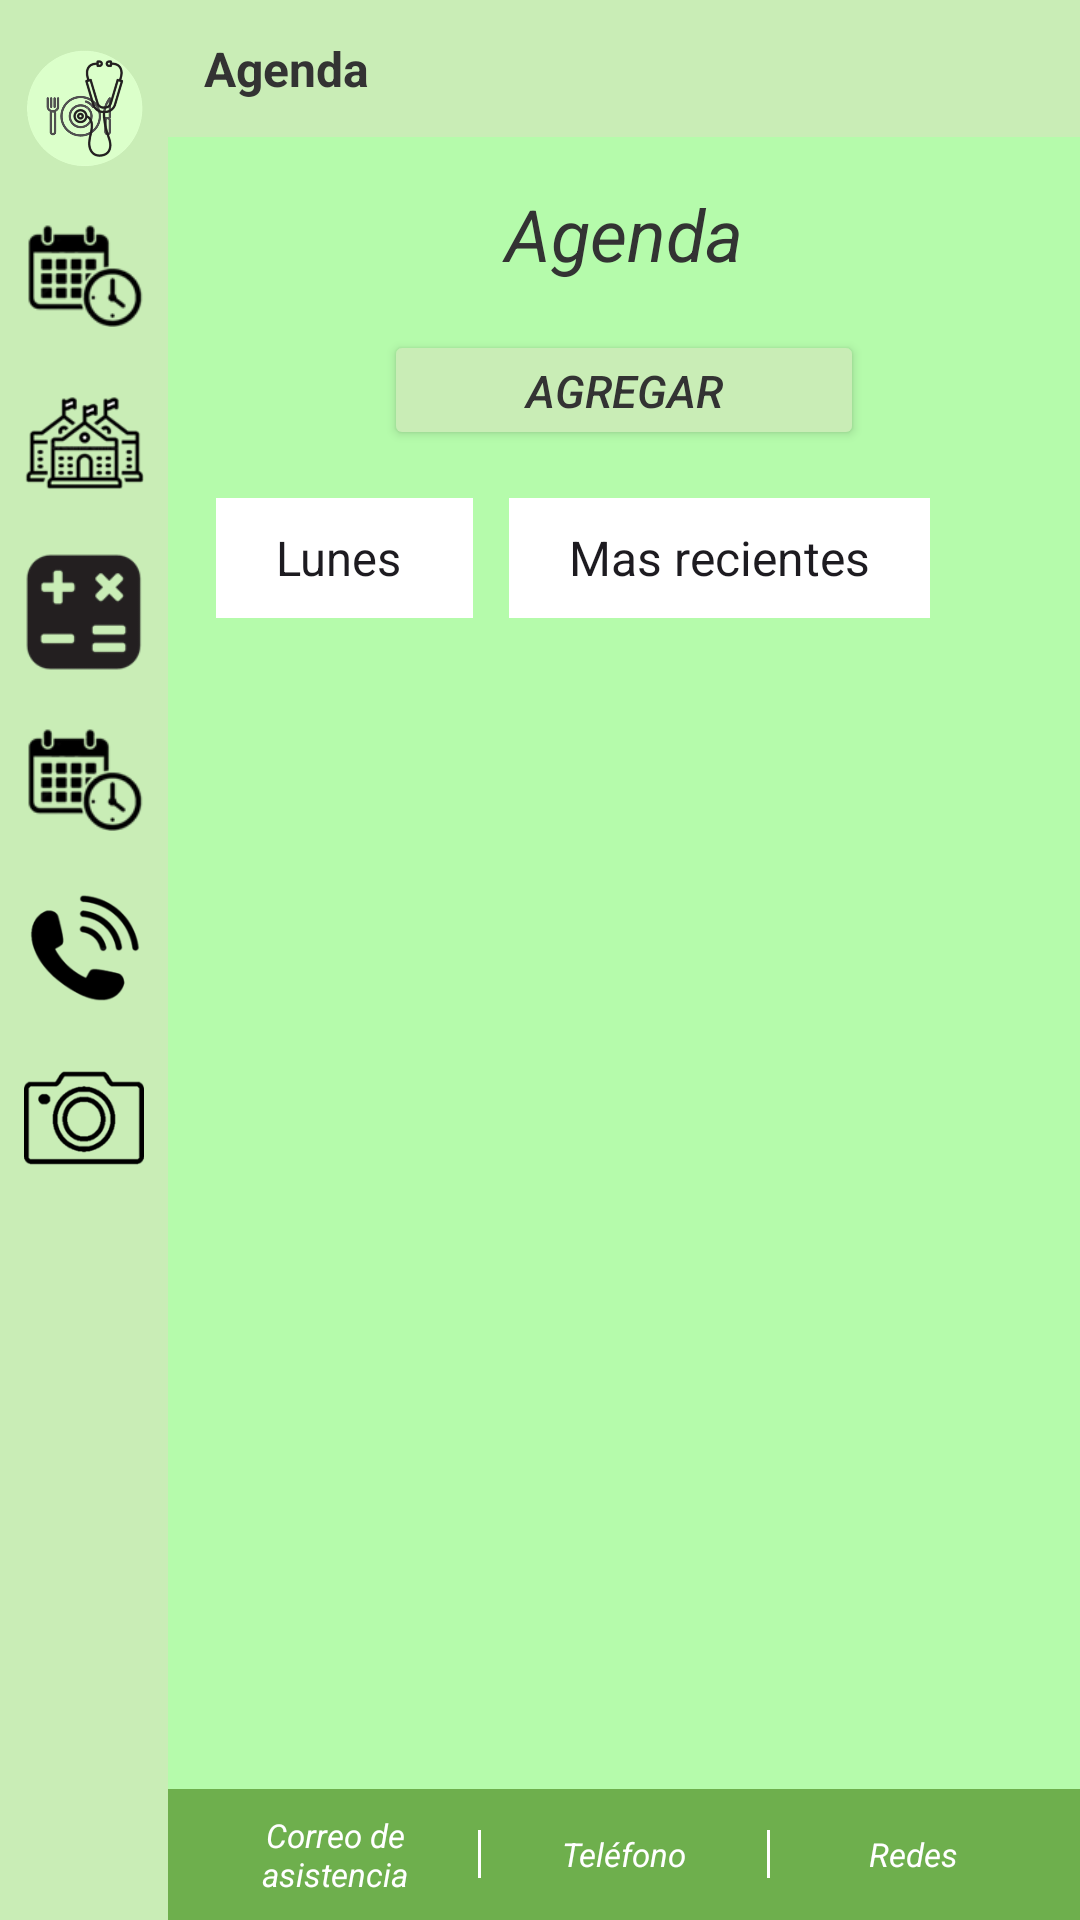

Point at icon controls on the screen. Image size 1080px x 1920px, points as [x,y].
Calculadora: [83,612]
Cámara: [84,1118]
Institución: [85,443]
Teléfono: [85,948]
